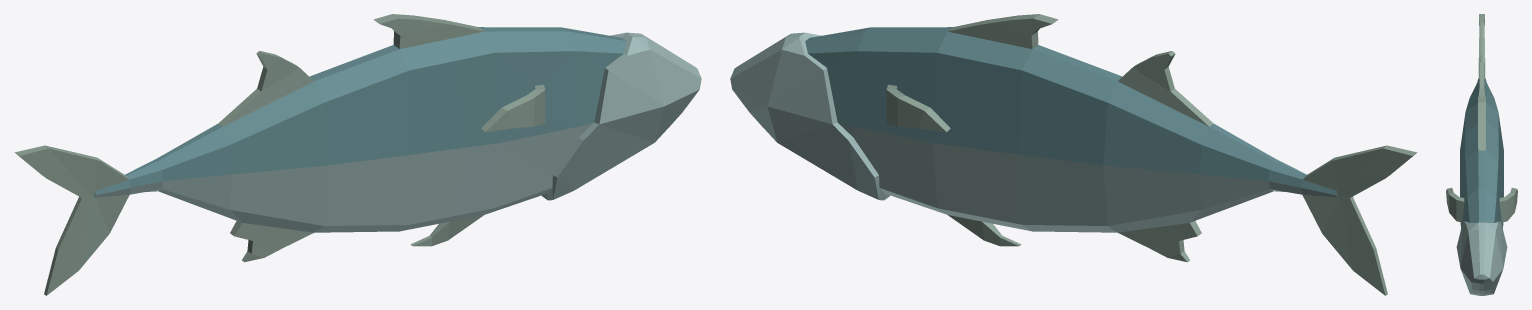
Rendered from Fish1.glb.
The picture shows the model from 3 angles, left to right: view 1: azimuth 30°, elevation 25°; view 2: azimuth 150°, elevation 25°; view 3: azimuth 270°, elevation 25°; orthographic projection. The views are drawn at different scales.
Visible parts, largest first — view 1: Fish1; view 2: Fish1; view 3: Fish1.
Part boxes in pixels (box(x1,y1,x2,y2)): Fish1: box(14, 14, 701, 295); Fish1: box(730, 14, 1417, 295); Fish1: box(1446, 14, 1517, 295).
Size of the model in its own units: 1 by 0.3339 by 0.1445.
